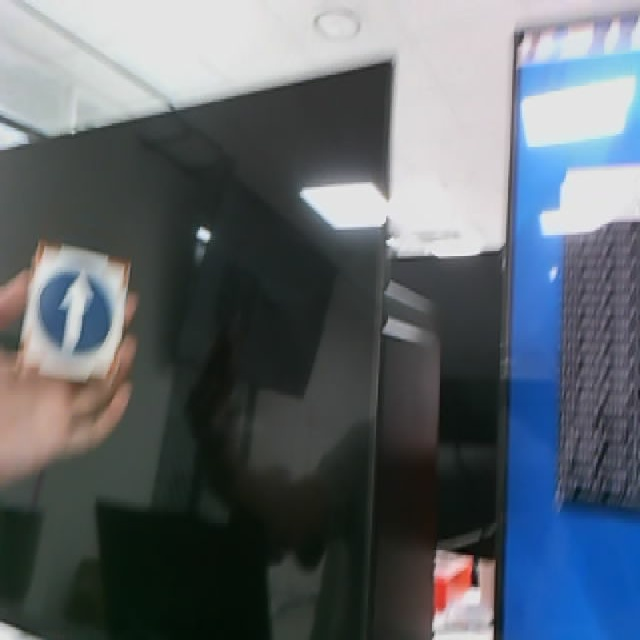strait: (17, 237, 131, 383)
